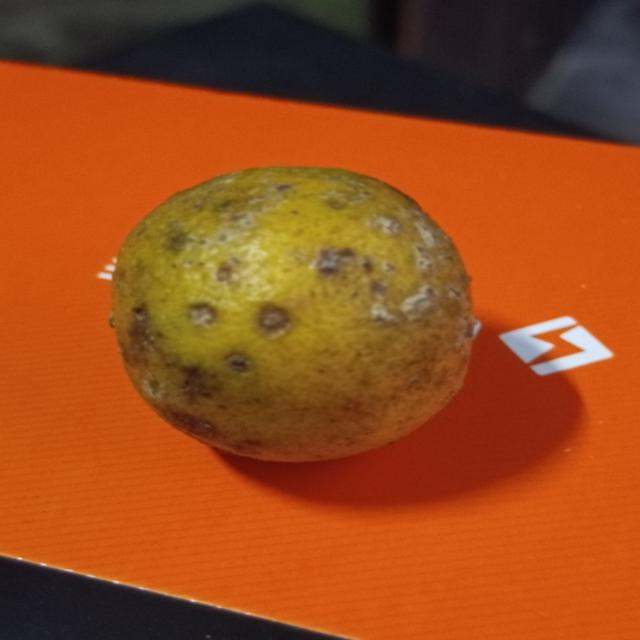black spot: (105, 160, 478, 468)
